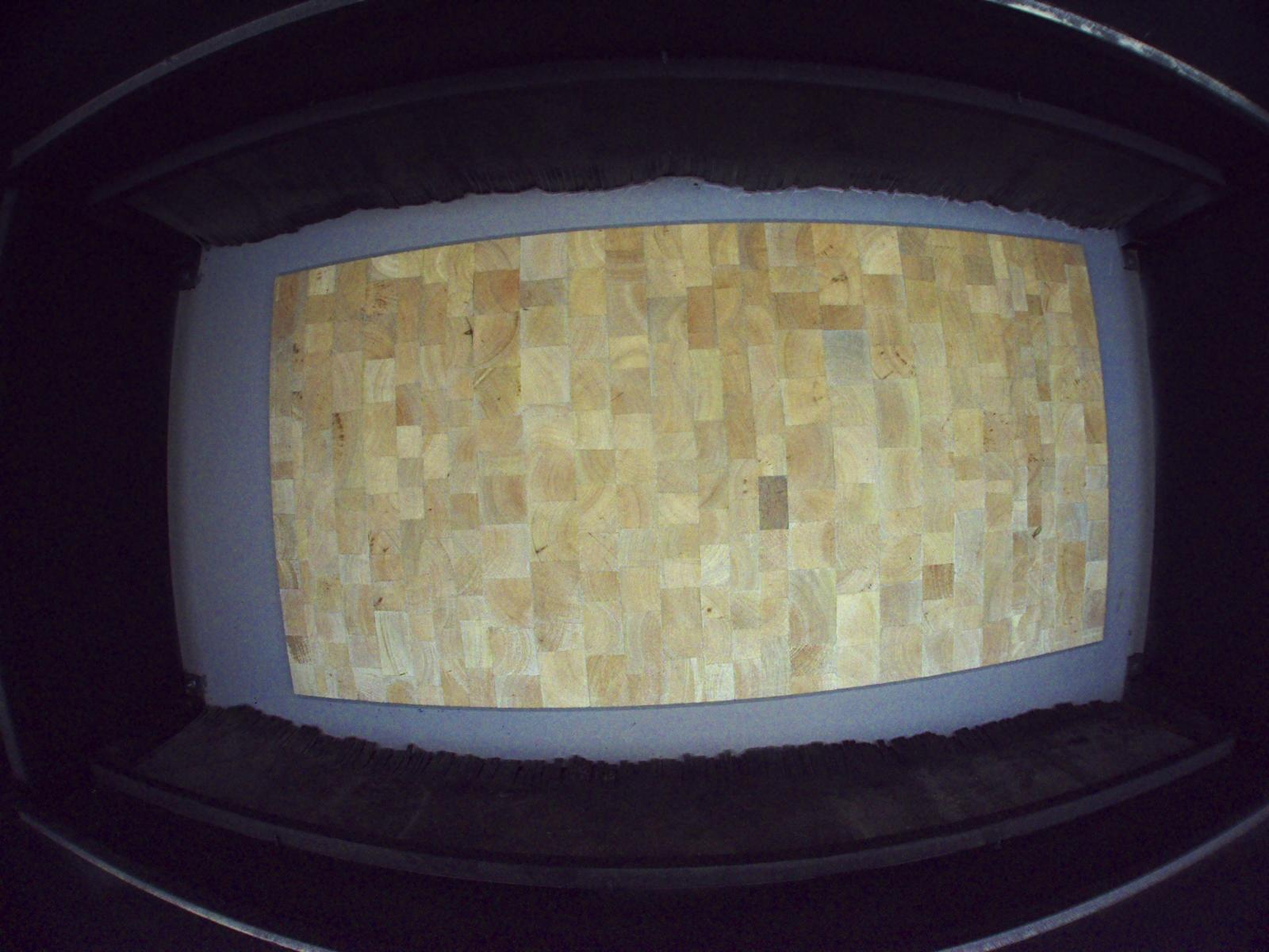sheck_ecuatoriano: (530, 501, 550, 564), (462, 316, 475, 347)
